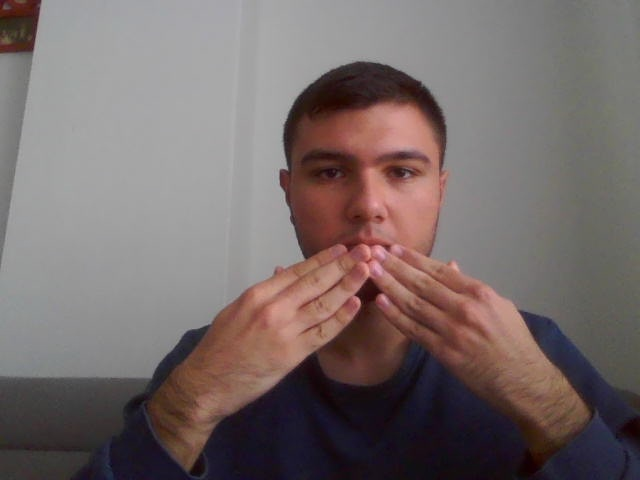thanks: (183, 242, 574, 412)
